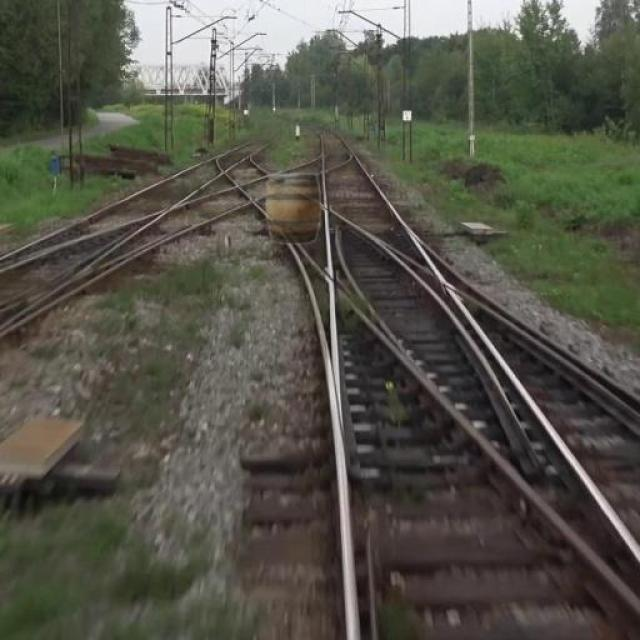Other_objects: (261, 169, 331, 252)
